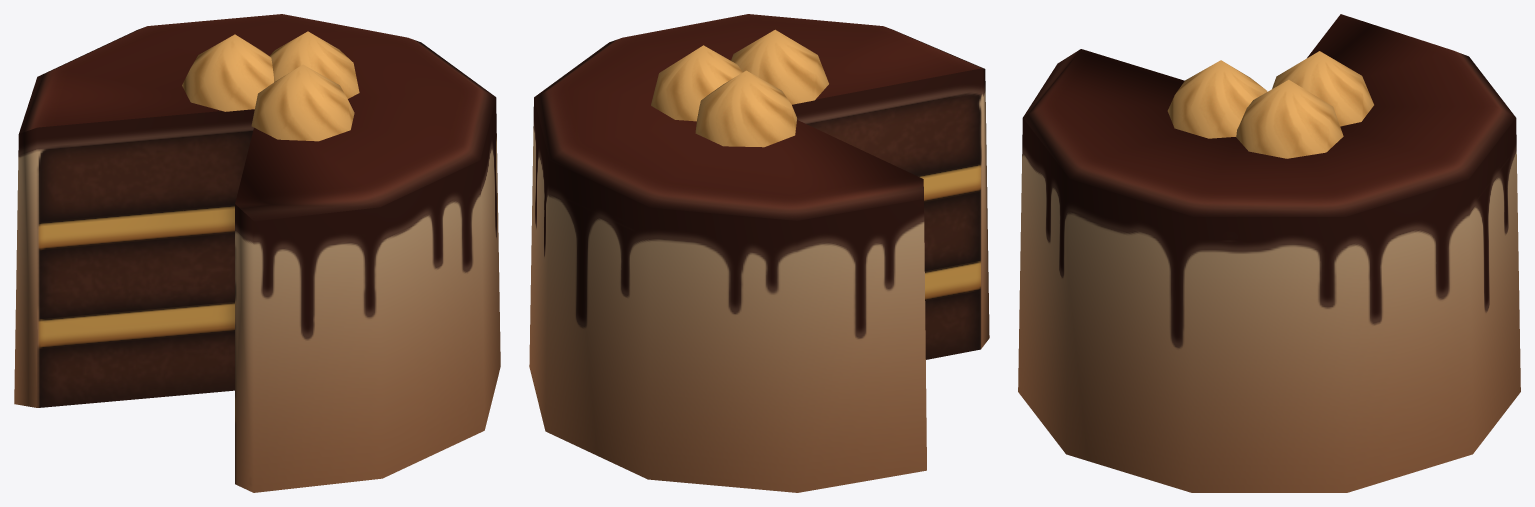
File: ChocDrip_Cut.fbx
3 views of the same model, side by side, from view 1: azimuth 30°, elevation 25°; view 2: azimuth 150°, elevation 25°; view 3: azimuth 270°, elevation 25° (orthographic).
Visible parts, largest first — view 1: ChocDrip_Cut; view 2: ChocDrip_Cut; view 3: ChocDrip_Cut.
Part boxes in pixels (x1=…): ChocDrip_Cut: x1=14, y1=14, x2=500, y2=492; ChocDrip_Cut: x1=529, y1=14, x2=989, y2=492; ChocDrip_Cut: x1=1018, y1=14, x2=1520, y2=492.
Size of the model in its own units: 76.8 by 61.22 by 81.5.
